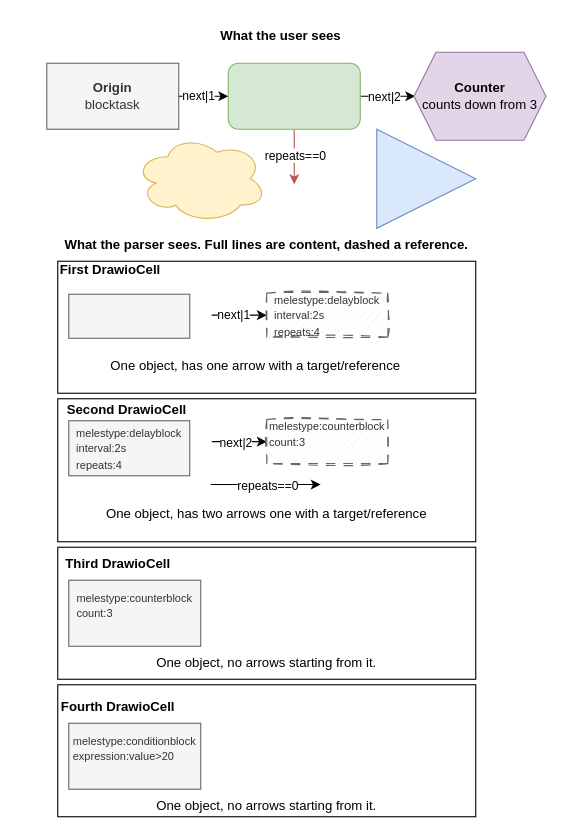
The diagram is 565 pixels wide and 840 high, and some of its shapes have lost their labels. Here are the shapes that lost their labels. From the top down, the box of each, then its label:
(227, 62, 360, 129): Interval Trigger every 2s a total of 4 times
(134, 134, 267, 223): Hello?
(376, 128, 476, 228): Condition value > 20
(68, 293, 190, 338): melestype:originblock melesid:blocktask
